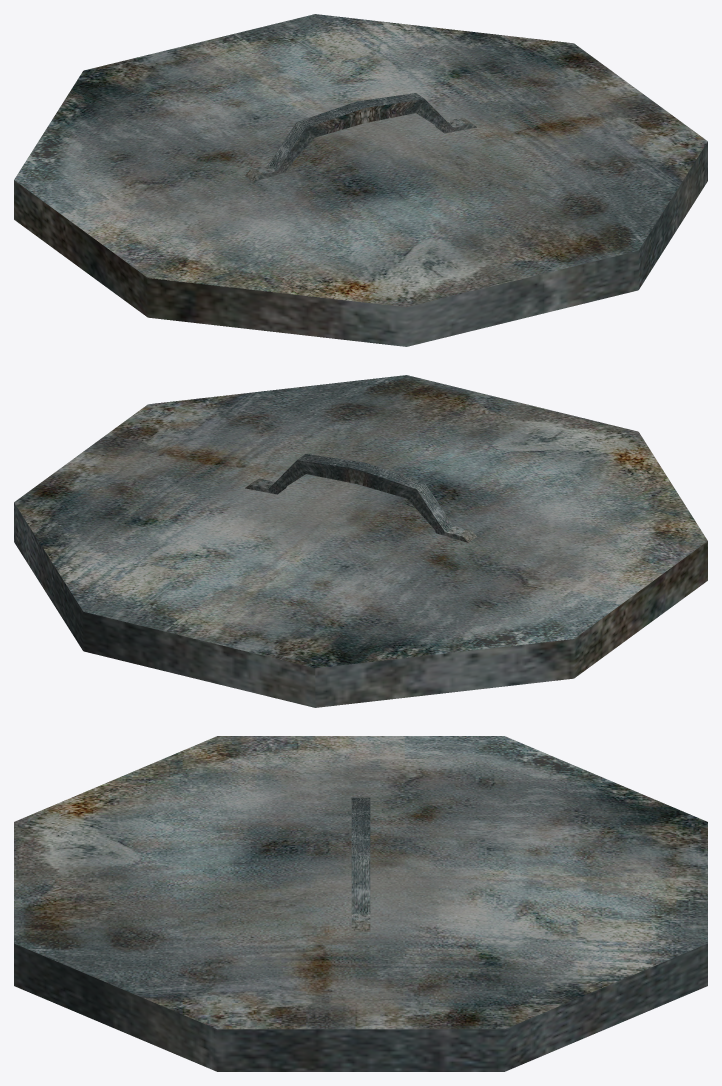
Rendered from misc_trashbin_lid.dae.
3 views of the same model, one above another, from view 1: azimuth 30°, elevation 25°; view 2: azimuth 150°, elevation 25°; view 3: azimuth 270°, elevation 25° (orthographic). The views are drawn at different scales.
Parts seen in each view (by area): view 1: TrashBinLid; view 2: TrashBinLid; view 3: TrashBinLid.
Part boxes in pixels (box(x1,y1,x2,y2)): TrashBinLid: box(14, 14, 707, 346); TrashBinLid: box(14, 375, 707, 707); TrashBinLid: box(14, 736, 707, 1071).
Size of what is drawn, in the model's own units: 0.4771 by 0.0778 by 0.4771.
